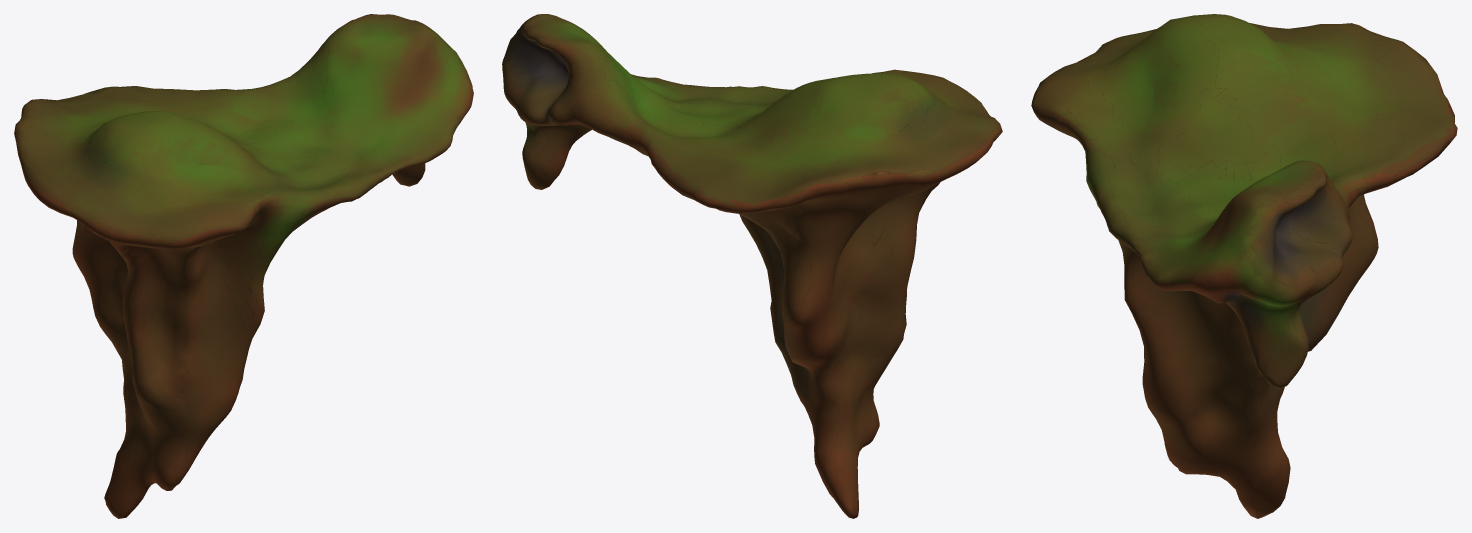
File: smalIsland1.fbx
3 views of the same model, side by side, from view 1: azimuth 30°, elevation 25°; view 2: azimuth 150°, elevation 25°; view 3: azimuth 270°, elevation 25° (orthographic). The views are drawn at different scales.
Visible parts, largest first — view 1: SmalIsland1; view 2: SmalIsland1; view 3: SmalIsland1.
Boxes of the visible parts, <box> form: SmalIsland1: <box>14,14,473,518</box>; SmalIsland1: <box>502,14,1002,518</box>; SmalIsland1: <box>1031,14,1457,518</box>.
Bounding box in the file's own units: 13683 × 12362 × 9499.
